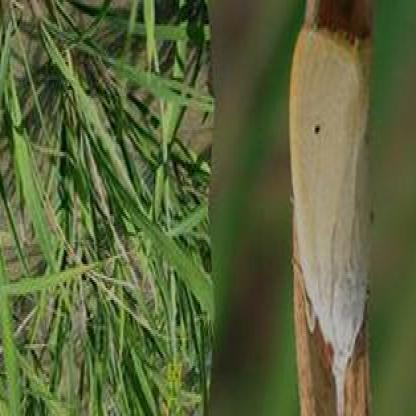stem-borer: (286, 20, 375, 416)
